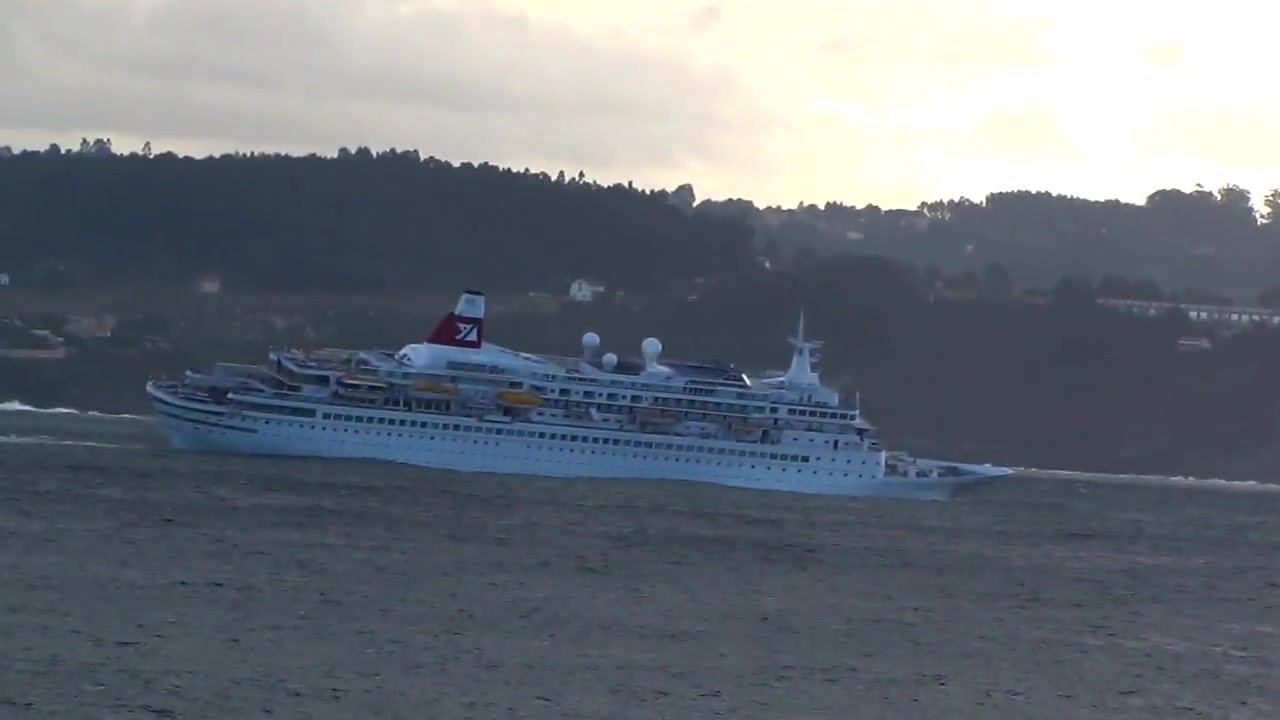boat: (145, 288, 1020, 505)
